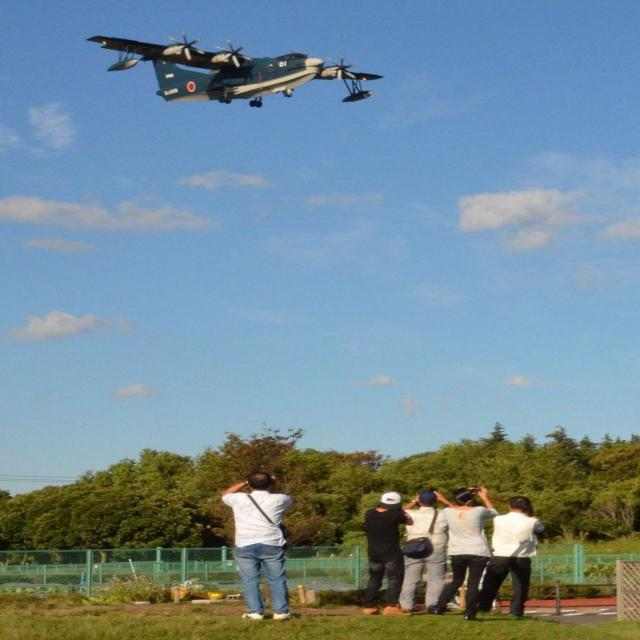MIL_Plane: (85, 30, 383, 108)
